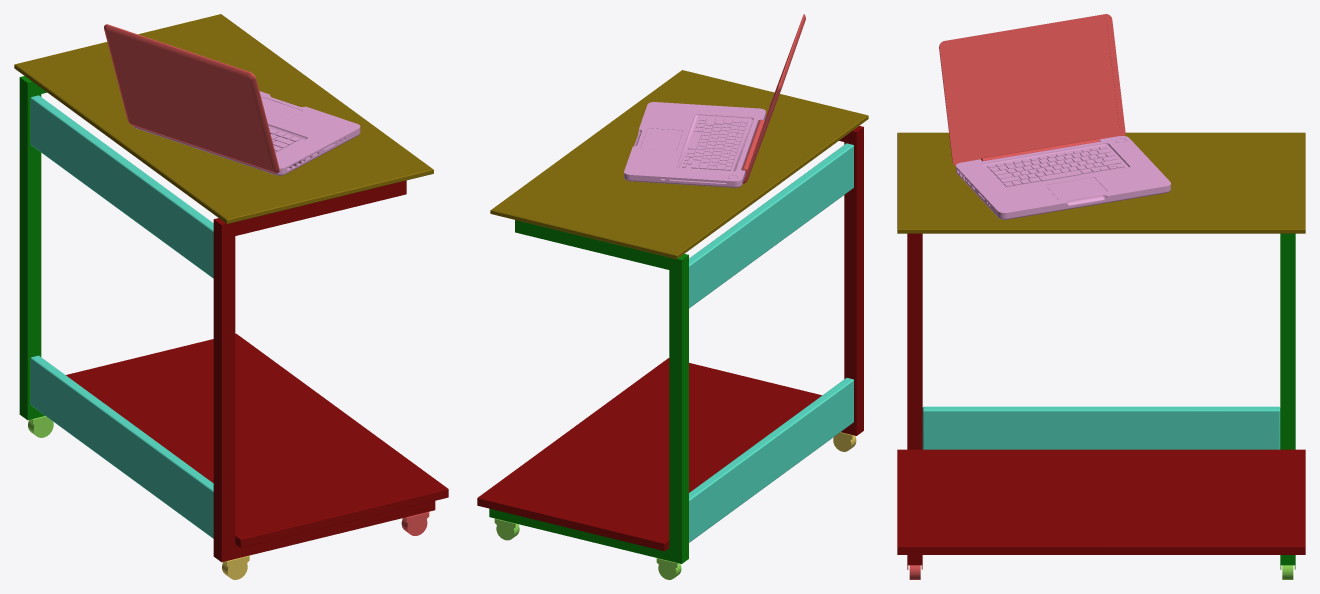
3 views of the same model, side by side, from view 1: azimuth 30°, elevation 25°; view 2: azimuth 150°, elevation 25°; view 3: azimuth 270°, elevation 25° (orthographic). The views are drawn at different scales.
Parts seen in each view (by area): view 1: Component_7_001, Component_5_001, Component_6_001, Component_11_001, Component_1_001, Component_1_002, Laptop___MacBook_Pro_001; view 2: Component_7_001, Component_5_001, Component_6_001, Component_1_002, Laptop___MacBook_Pro_001, Component_1_001, Component_11_001; view 3: Component_7_001, Component_5_001, Component_11_001, Component_6_001, Laptop___MacBook_Pro_001, Component_1_001, Component_1_002.
Boxes of the visible parts, x1,y1,x2,y2 form: Component_7_001: [66, 333, 448, 547]; Component_5_001: [14, 14, 433, 223]; Component_6_001: [30, 95, 213, 538]; Component_11_001: [104, 24, 279, 173]; Component_1_001: [213, 180, 435, 562]; Component_1_002: [19, 76, 53, 437]; Laptop___MacBook_Pro_001: [133, 91, 360, 175]; Component_7_001: [477, 358, 821, 551]; Component_5_001: [490, 70, 868, 259]; Component_6_001: [689, 143, 853, 542]; Component_1_002: [489, 220, 688, 579]; Laptop___MacBook_Pro_001: [624, 102, 765, 187]; Component_1_001: [494, 126, 863, 540]; Component_11_001: [742, 14, 805, 183]; Component_7_001: [897, 449, 1305, 554]; Component_5_001: [897, 132, 1305, 233]; Component_11_001: [939, 14, 1125, 165]; Component_6_001: [922, 406, 1280, 449]; Laptop___MacBook_Pro_001: [956, 136, 1170, 219]; Component_1_001: [907, 233, 1295, 579]; Component_1_002: [1280, 233, 1295, 565].
Bounding box in the file's own units: 509 × 1011 × 800.
